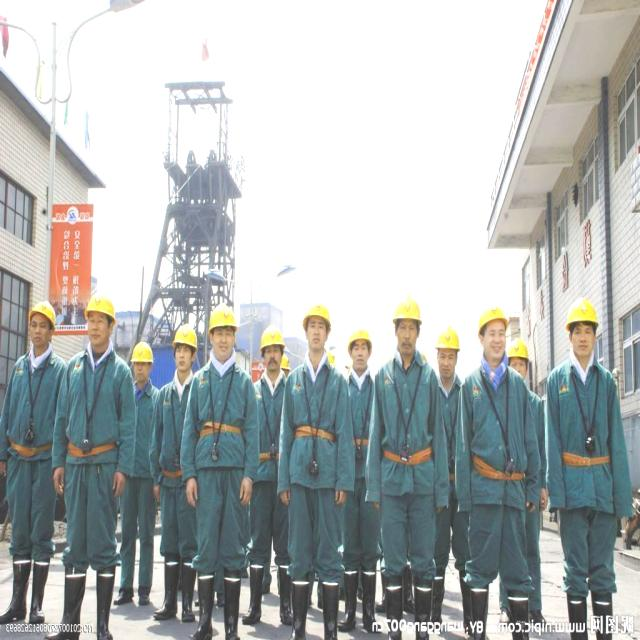face_nomask: (393, 318, 421, 361), (570, 318, 596, 364), (482, 322, 508, 366), (85, 311, 114, 347), (211, 326, 238, 361), (26, 314, 49, 347), (305, 319, 328, 352), (351, 338, 372, 373), (437, 350, 459, 382), (174, 343, 194, 375), (263, 343, 283, 373), (132, 357, 149, 385)
hand_noglove: (49, 458, 67, 498), (110, 470, 130, 501), (186, 475, 202, 509), (238, 477, 255, 508)
head_helmet: (80, 290, 120, 318), (477, 300, 510, 333), (22, 300, 59, 327), (568, 299, 600, 323), (208, 305, 238, 329), (301, 301, 333, 323), (507, 332, 534, 358), (344, 322, 376, 343), (170, 321, 197, 345), (396, 293, 422, 316), (259, 326, 282, 348), (437, 328, 462, 348), (131, 340, 152, 362), (279, 353, 291, 377), (327, 348, 338, 362)
person: (550, 292, 624, 632), (56, 292, 128, 636), (188, 307, 258, 640), (0, 292, 63, 640), (373, 291, 436, 637), (462, 303, 526, 635), (284, 292, 342, 640), (153, 321, 202, 631), (113, 341, 156, 619), (432, 317, 469, 465), (343, 328, 382, 455), (248, 312, 296, 408), (508, 328, 540, 375)
shoes: (43, 573, 89, 640), (0, 556, 35, 627), (26, 559, 56, 628), (150, 554, 178, 622), (334, 565, 360, 633), (358, 564, 382, 636), (94, 572, 119, 640), (272, 559, 296, 628), (241, 562, 266, 623), (180, 558, 198, 624), (109, 581, 135, 610), (135, 582, 153, 607)
